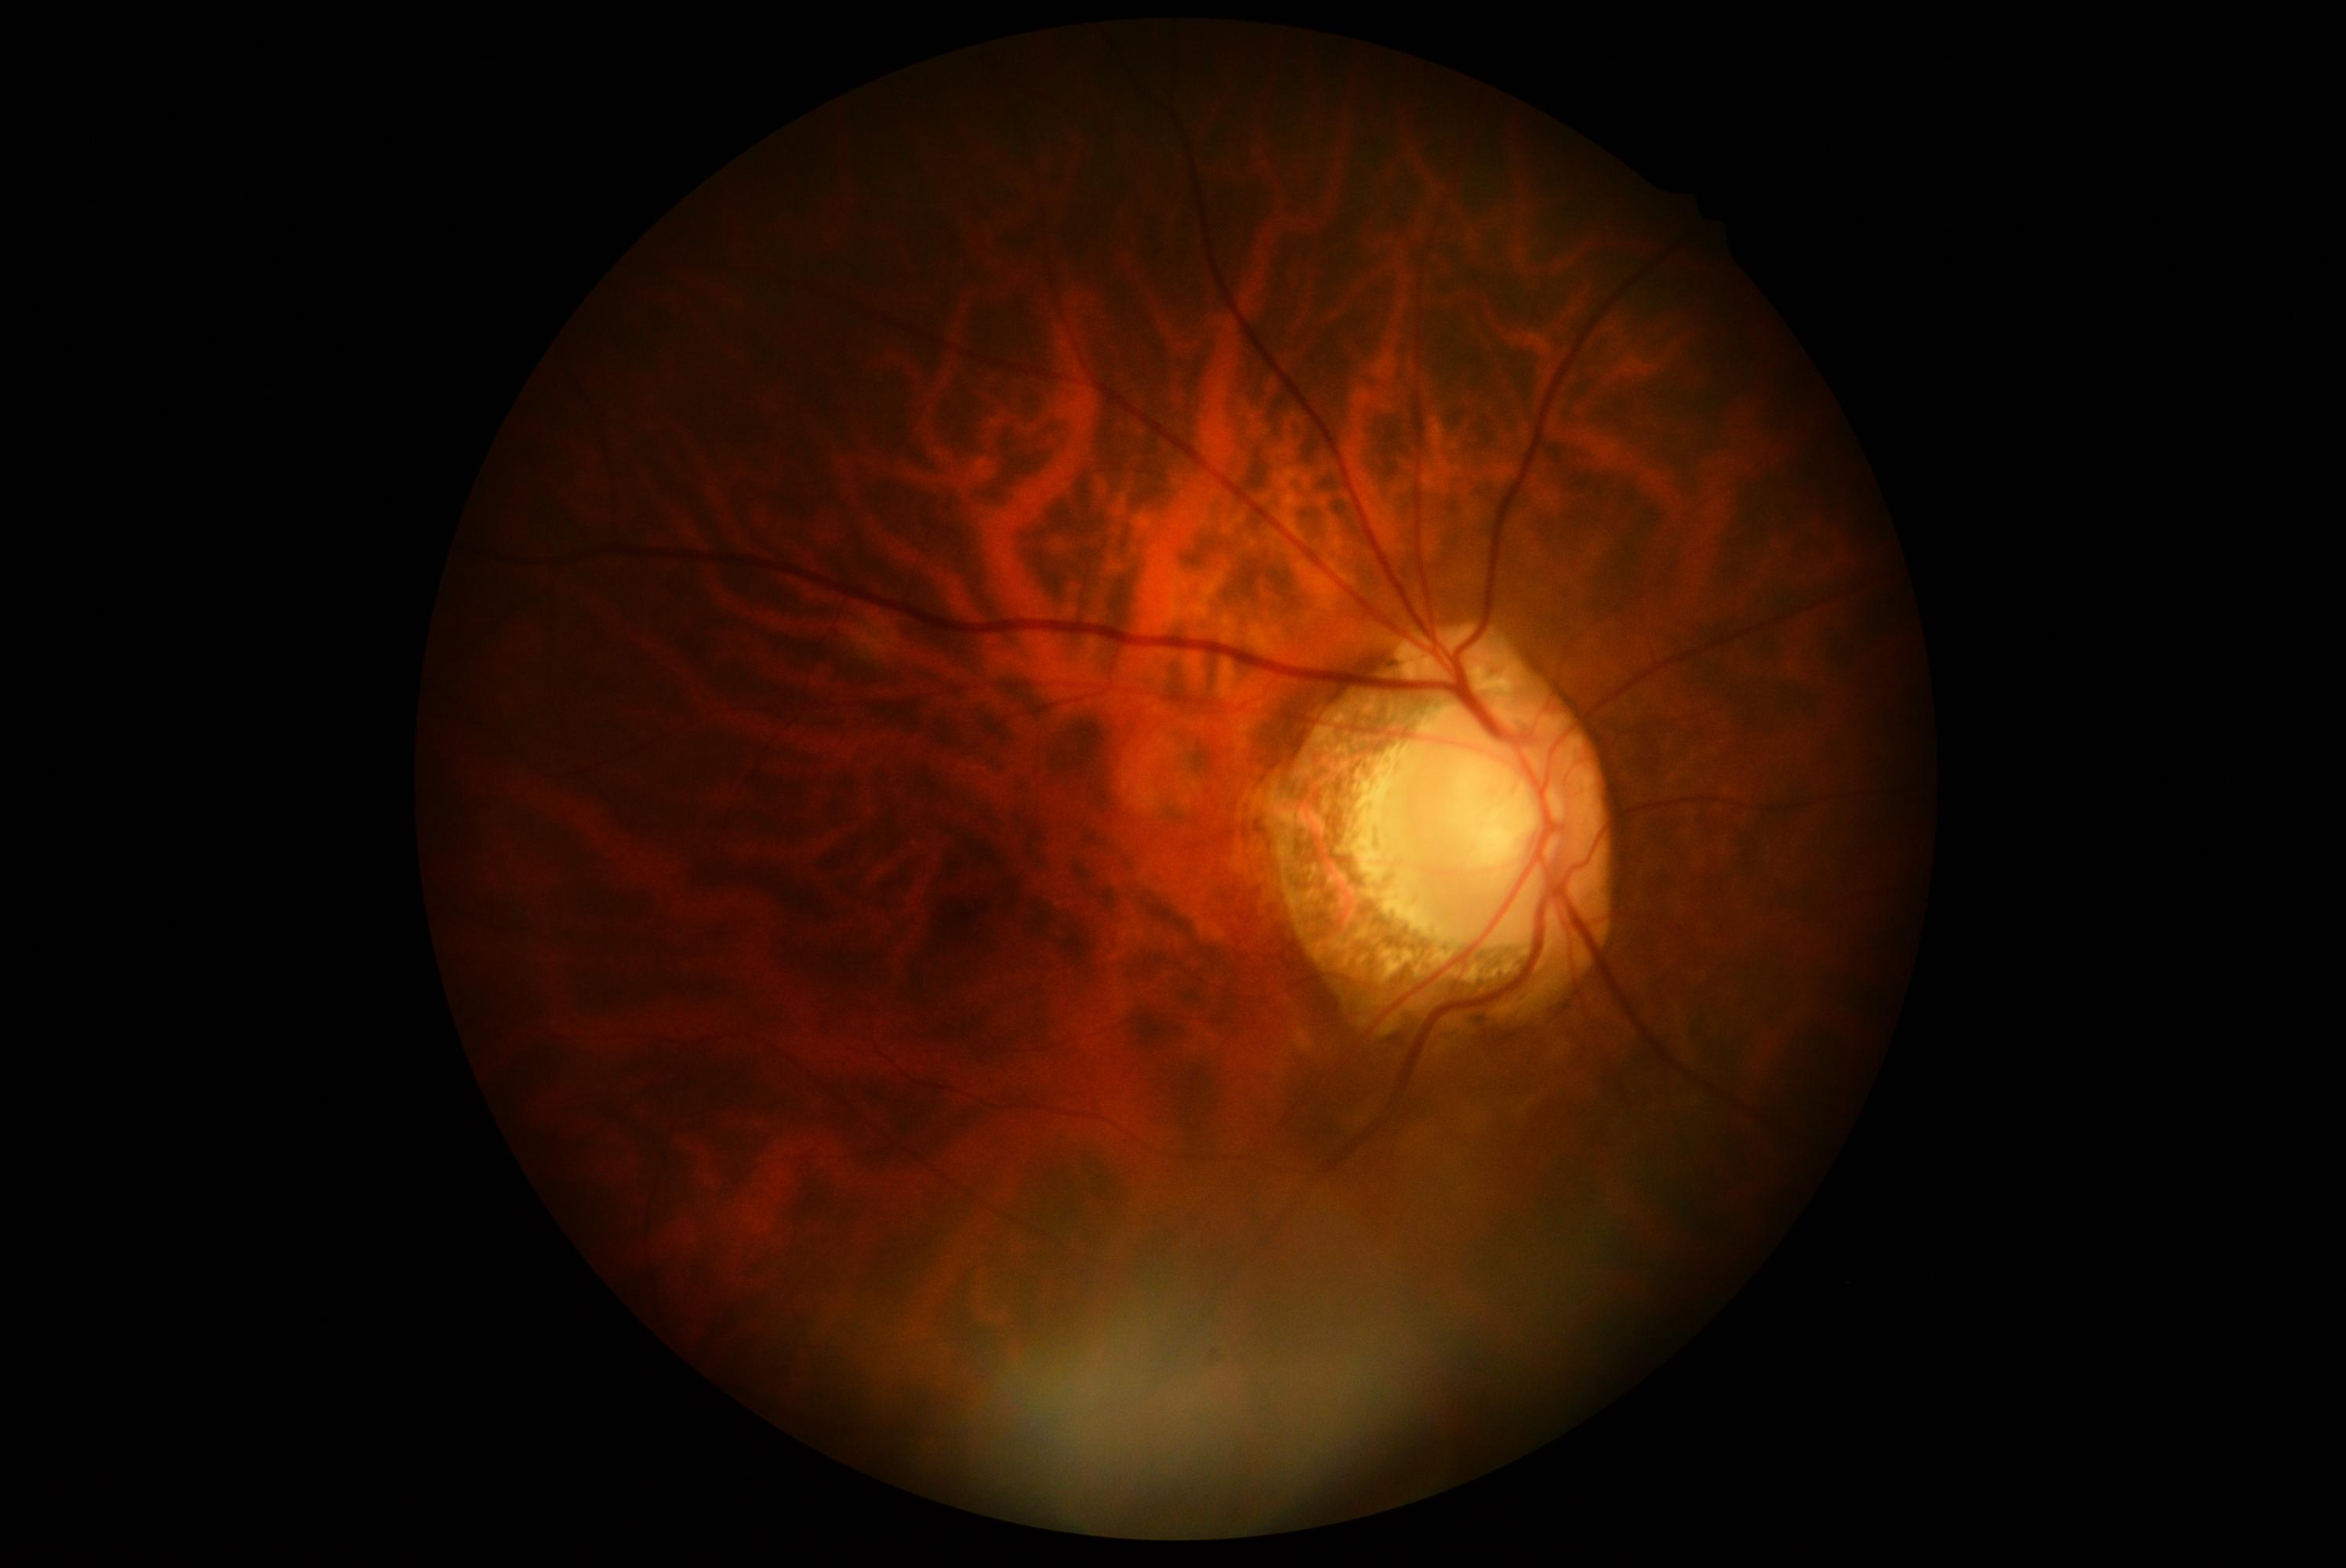Fovea: (782, 854, 931, 1008)
